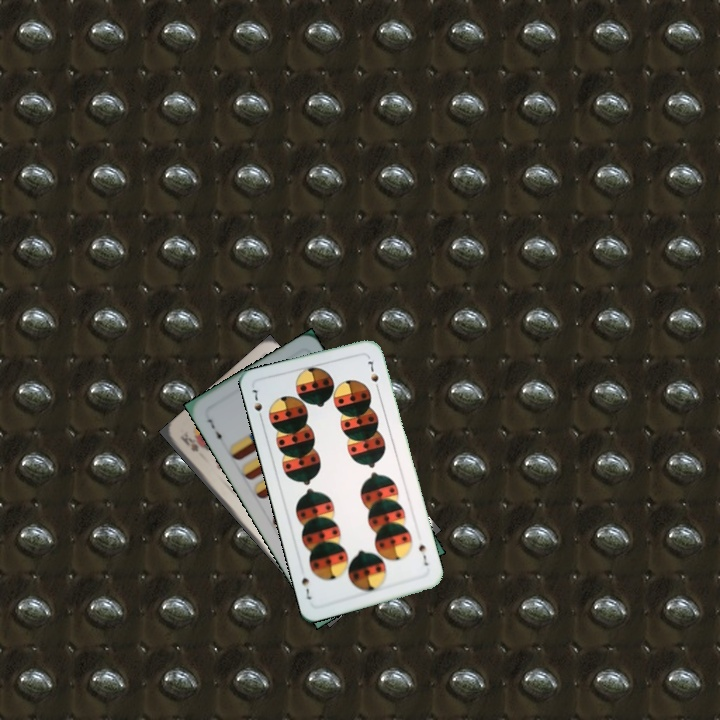E7: (204, 415, 225, 446)
S7: (249, 385, 265, 424), (415, 540, 431, 568)
SK: (176, 429, 201, 454)
